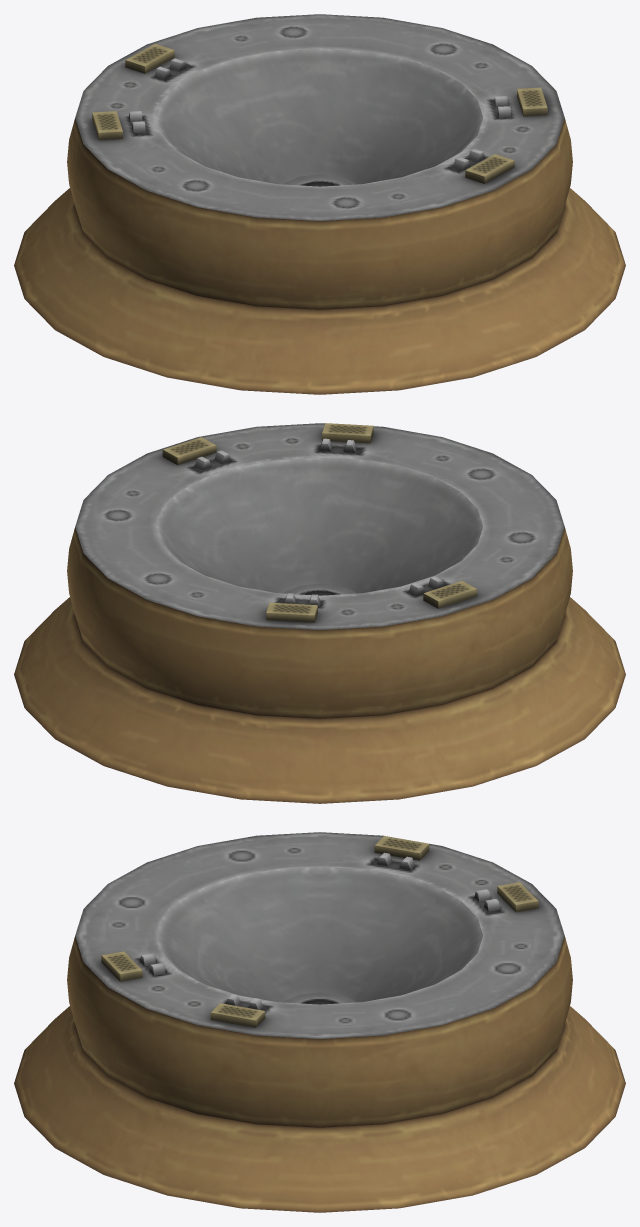
File: octans_docking_port_s0p5_1_female.obj
3 views of the same model, one above another, from view 1: azimuth 30°, elevation 25°; view 2: azimuth 150°, elevation 25°; view 3: azimuth 270°, elevation 25° (orthographic).
Visible parts, largest first — view 1: mesh; view 2: mesh; view 3: mesh.
Boxes of the visible parts, box(x1,y1,x2,y2) form: mesh: box(14, 14, 625, 394); mesh: box(14, 423, 625, 803); mesh: box(14, 832, 625, 1212).
Bounding box in the file's own units: 0.9375 × 0.2625 × 0.9375.
